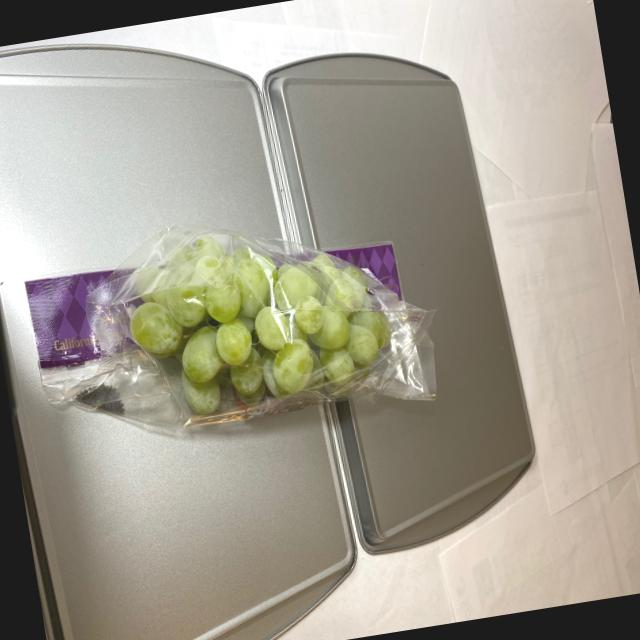grapes: (115, 210, 412, 428)
